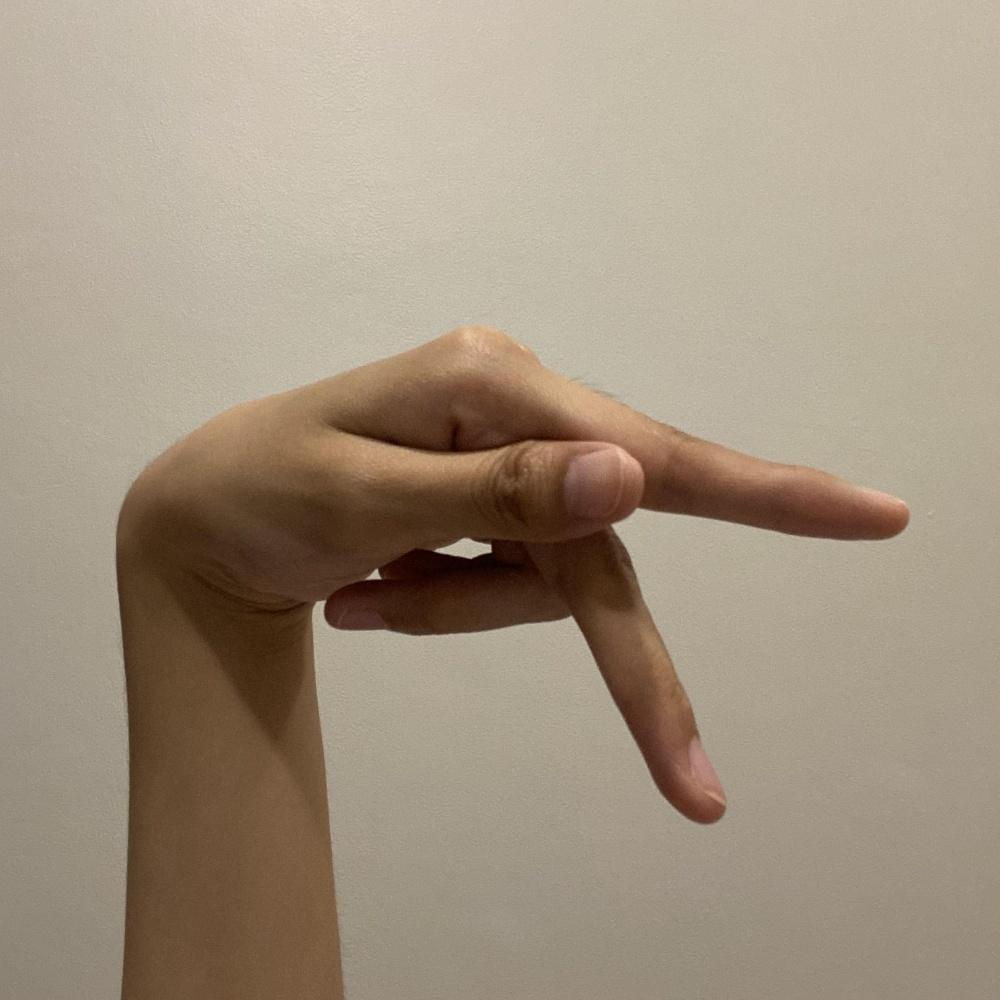p: (175, 318, 913, 827)
